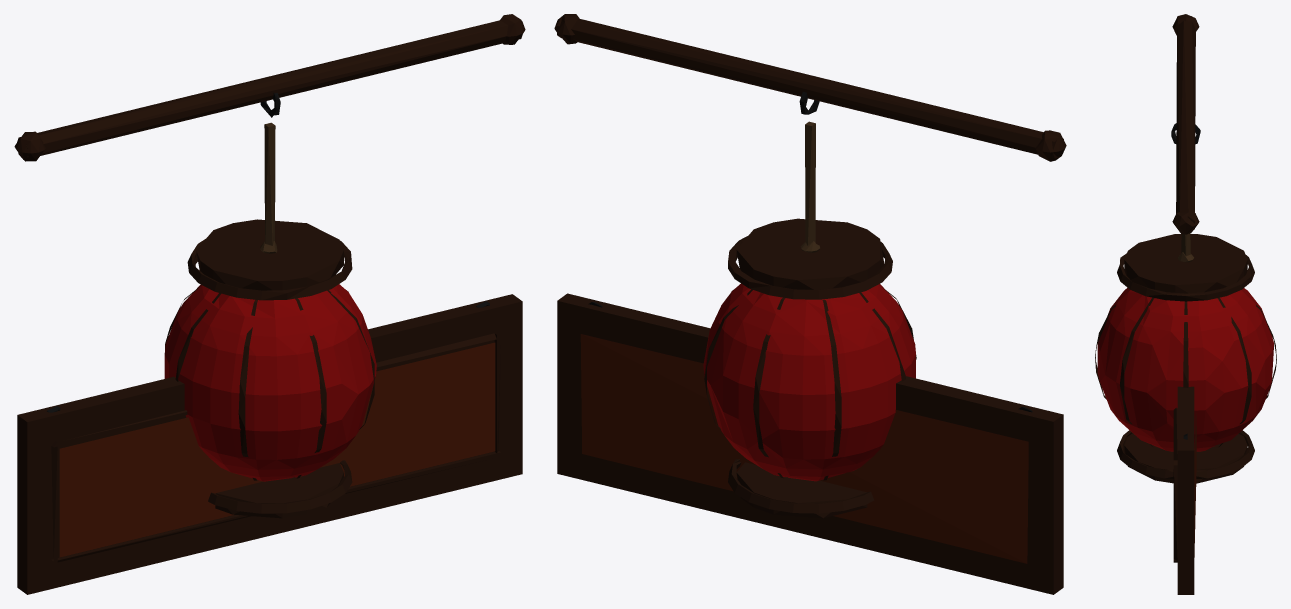
Rendered from lib_lib_signage_kit.vc2.glb.
The picture shows the model from 3 angles, left to right: view 1: azimuth 30°, elevation 25°; view 2: azimuth 150°, elevation 25°; view 3: azimuth 270°, elevation 25°; orthographic projection. The views are drawn at different scales.
Parts seen in each view (by area): view 1: lib_lib_signage_kit; view 2: lib_lib_signage_kit; view 3: lib_lib_signage_kit.
Part boxes in pixels (box(x1,y1,x2,y2)): lib_lib_signage_kit: box(14, 14, 525, 594); lib_lib_signage_kit: box(554, 14, 1066, 594); lib_lib_signage_kit: box(1095, 14, 1276, 594).
Size of the model in its own units: 1.23 by 1.06 by 0.4566.
